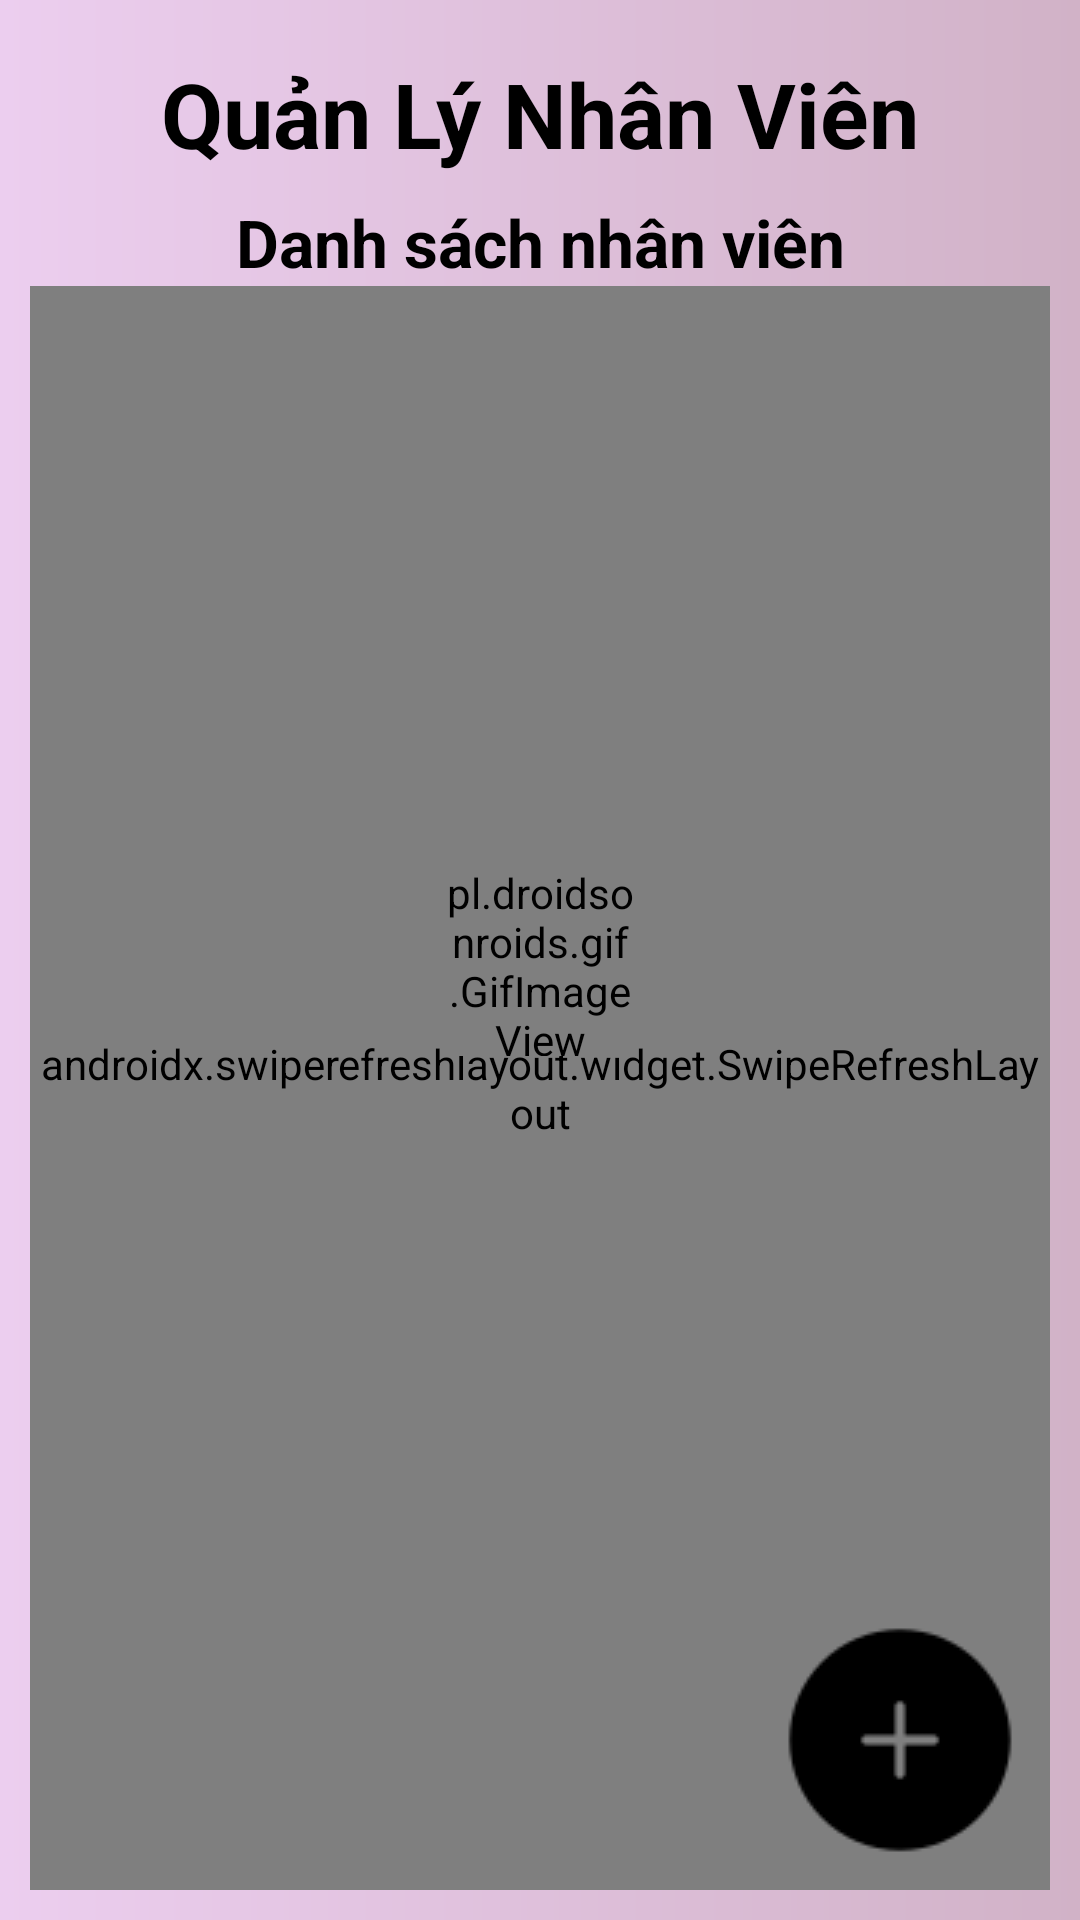

Icon bounding boxes for this 1080*1920 phone screenshot, format (x1, y1, x2, y2):
add: (788, 1628, 1012, 1852)
